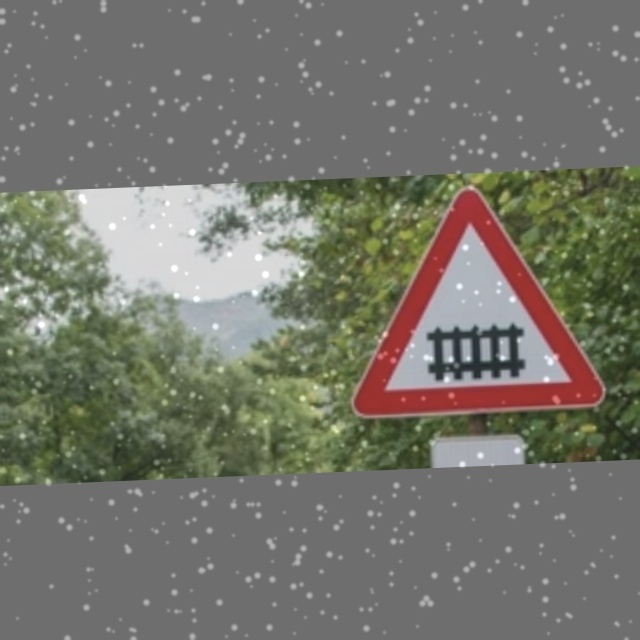Guarded_Level_Crossing: (350, 183, 608, 421)
